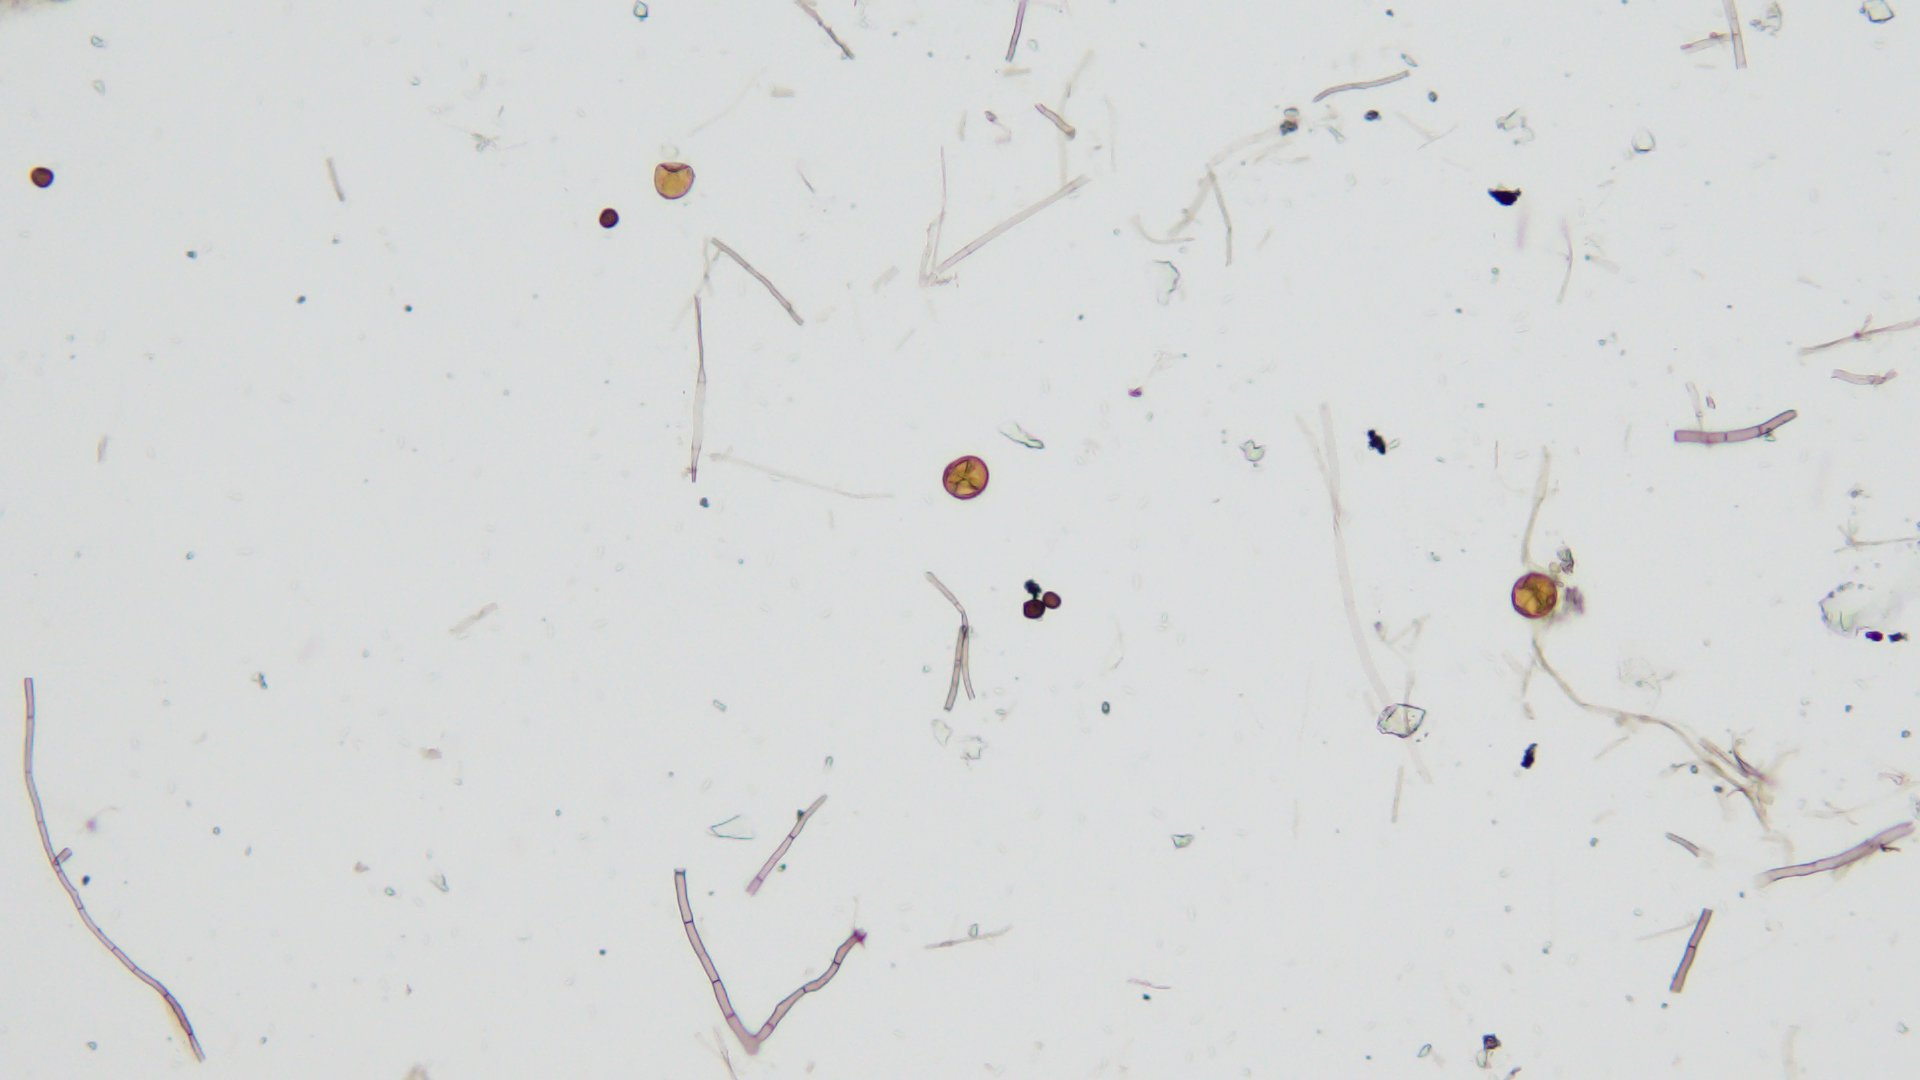shs_spore: (1021, 597, 1048, 621), (28, 167, 55, 189), (599, 207, 620, 229), (1044, 591, 1063, 611)
xb_spore: (1511, 568, 1559, 618), (942, 454, 989, 498), (650, 161, 698, 203)
